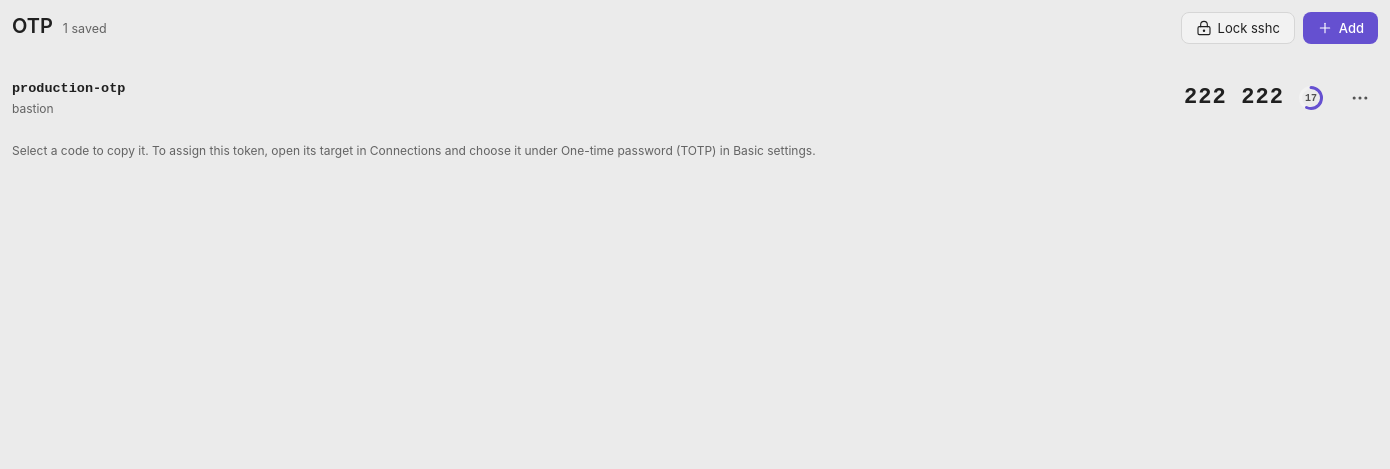
Test case: SecretsPanel › keeps what was typed in the form when storing fails
Click the button "Add" at (1340, 28), box [1303,12,1378,44]
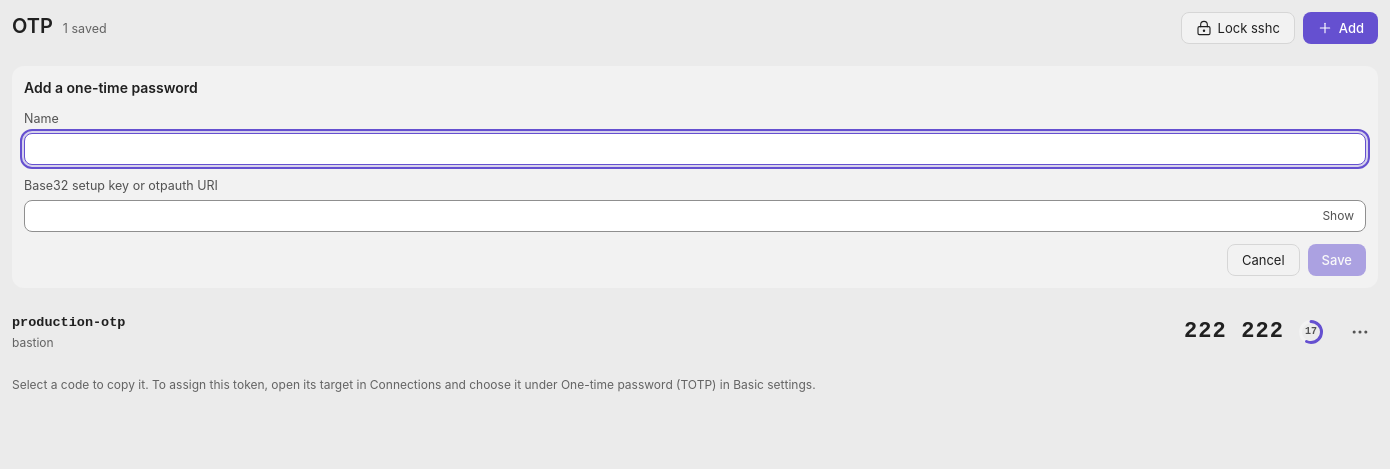
Type "github" into the field labelled "Name" at (695, 149), box [24,133,1366,165]
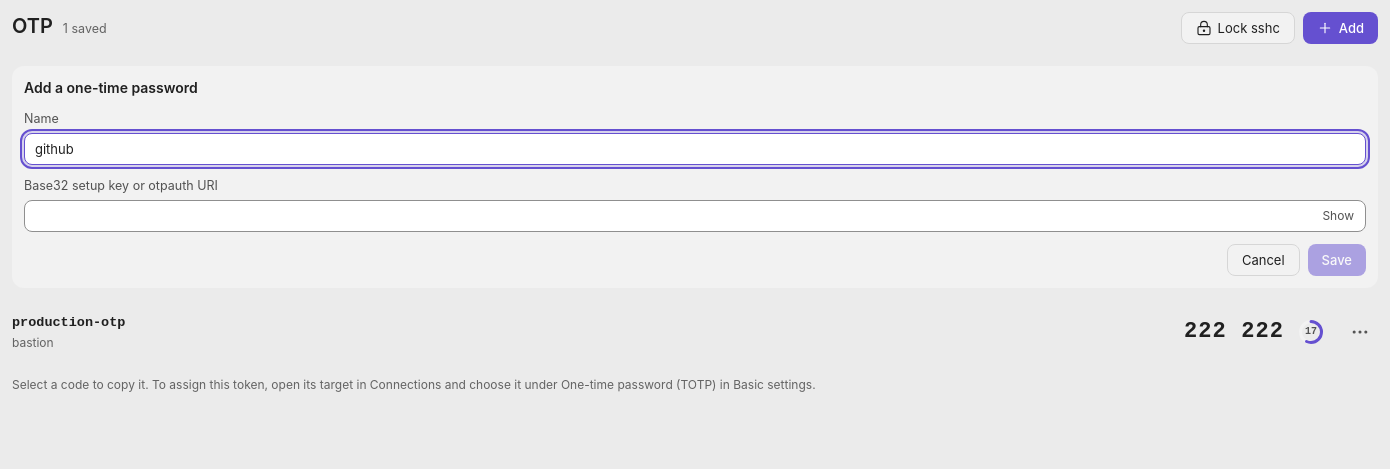
Type "not-base32" into the password field named "Base32 setup key or otpauth URI" at (695, 216), box [24,200,1366,232]
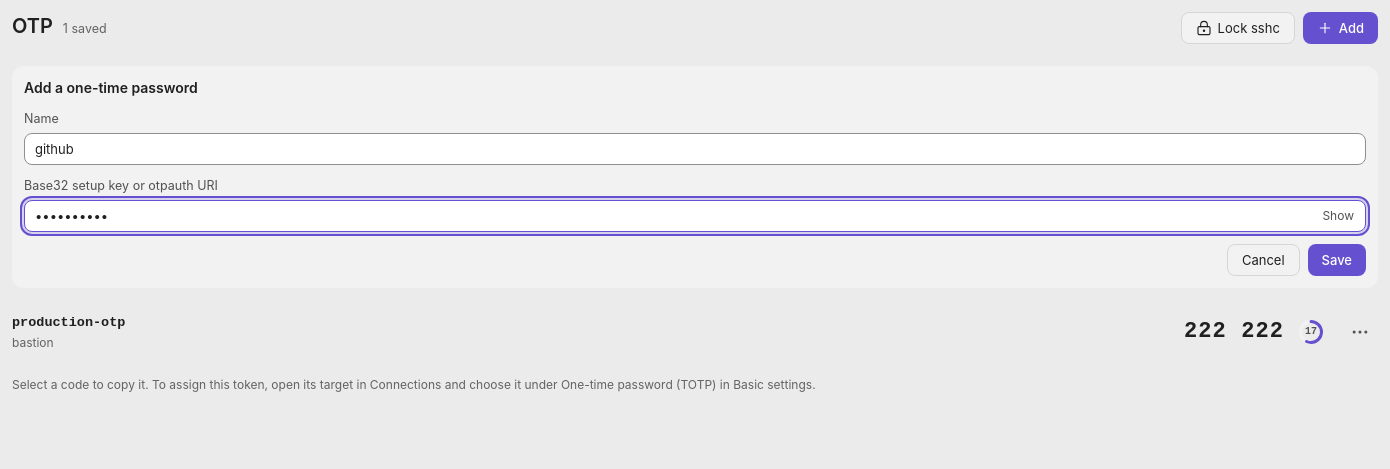
Click the button "Save" at (1337, 260), box [1308,244,1366,276]
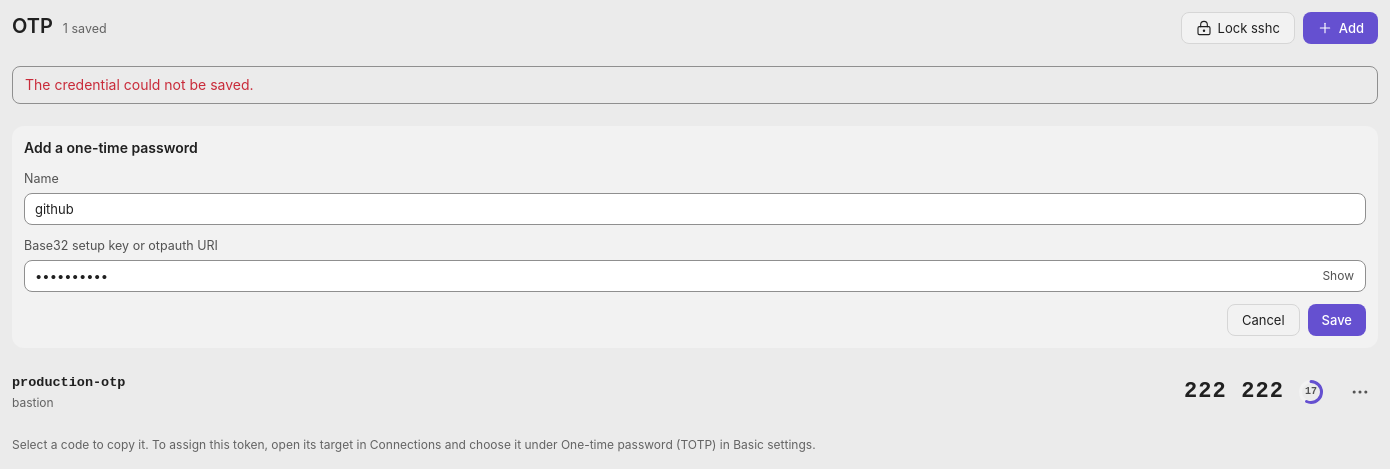
Result: the text "The credential could not be saved." is shown at [25,76,254,93]
